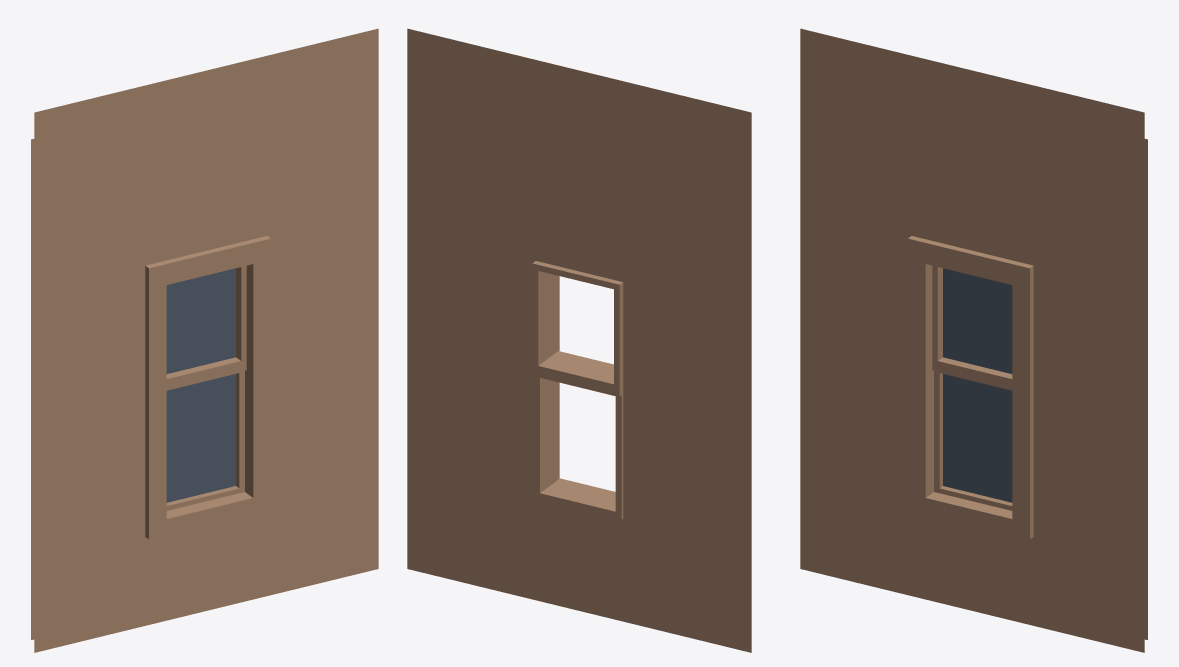
Rendered from env_block_brick_window_square_single.glb.
3 views of the same model, side by side, from view 1: azimuth 30°, elevation 25°; view 2: azimuth 150°, elevation 25°; view 3: azimuth 330°, elevation 25° (orthographic).
Visible parts, largest first — view 1: part_0, part_1; view 2: part_0; view 3: part_0, part_1.
Boxes of the visible parts, x1,y1,x2,y2 form: part_0: (31, 28, 378, 652); part_1: (166, 268, 235, 502); part_0: (407, 28, 751, 652); part_0: (800, 28, 1147, 652); part_1: (943, 268, 1012, 502).
Size of the model in its own units: 2 by 3 by 0.271.
